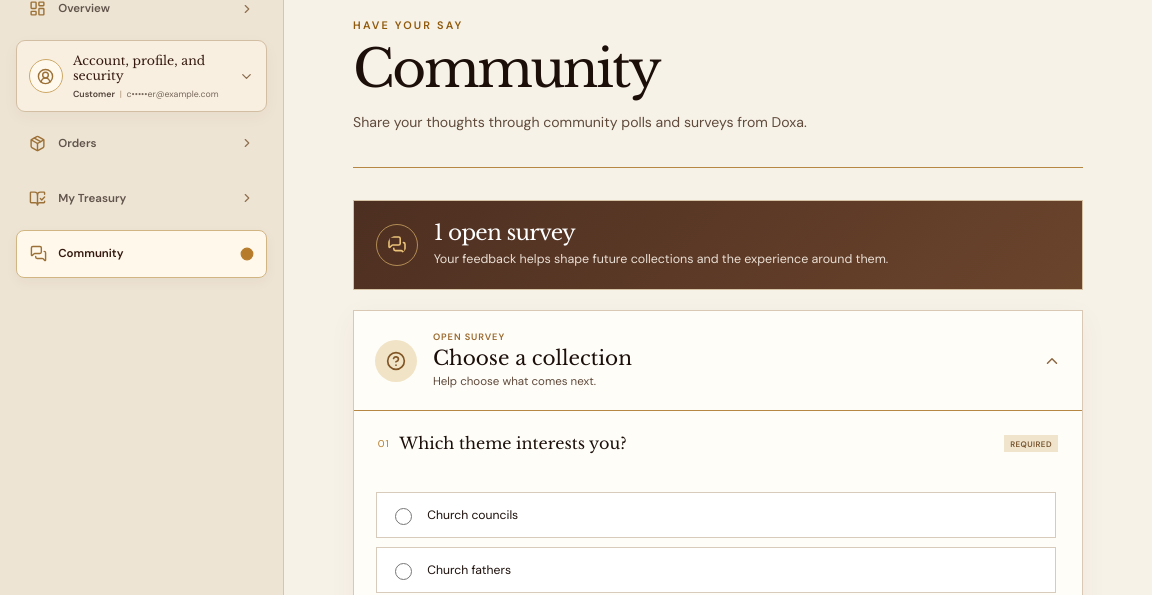
Test: account community surveys › lets a signed-in customer answer a published survey
Check: the text "Choose a collection" is shown, box [433,346,632,370]
What coordinates should you click on to do the following:
click the radio button labelled "Church councils"
I would click on:
 (404, 517)
Its box is [395,508,412,525].
(page scrolled)
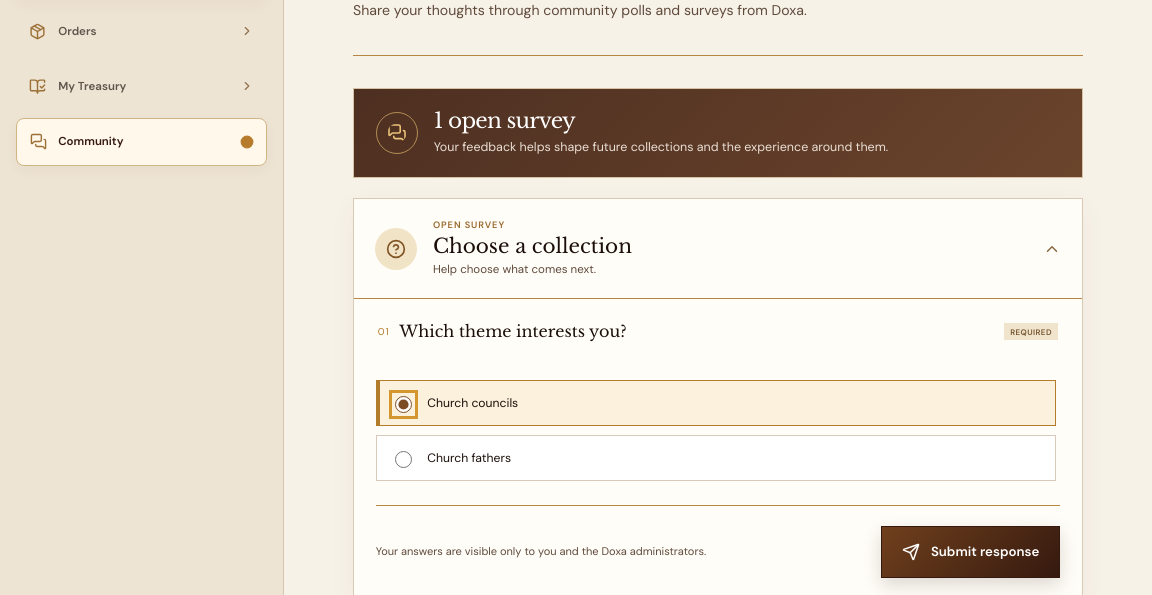
What coordinates should you click on to do the following:
click the button "Submit response"
I would click on:
 (971, 552)
Its box is [882,526,1060,578].
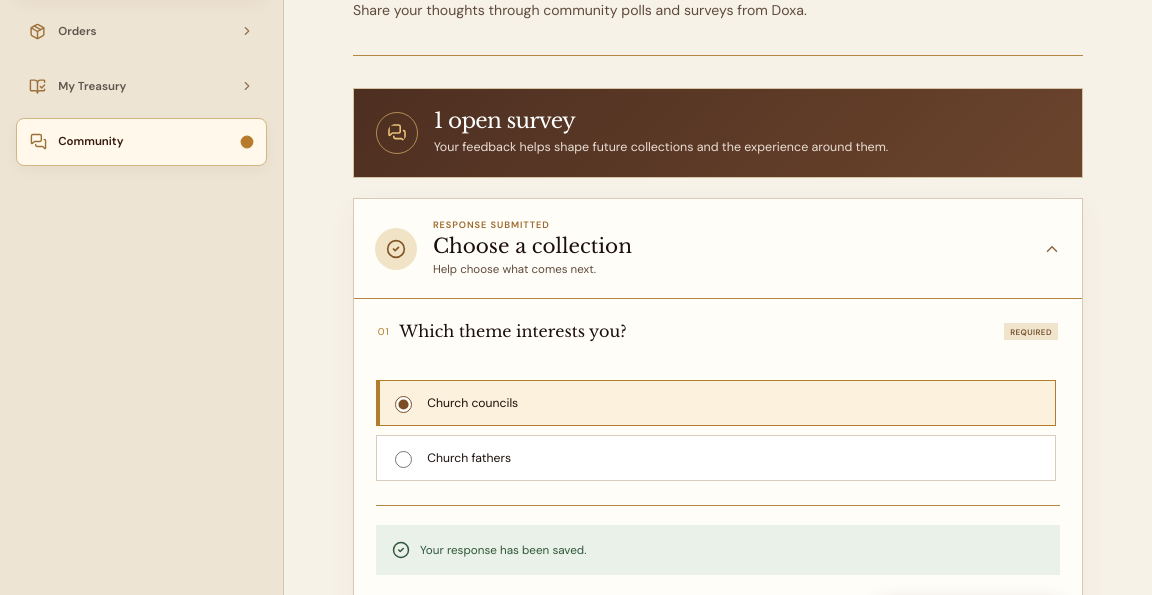
Check: the text "Your response has been saved." is shown, box [376,525,1060,575]
